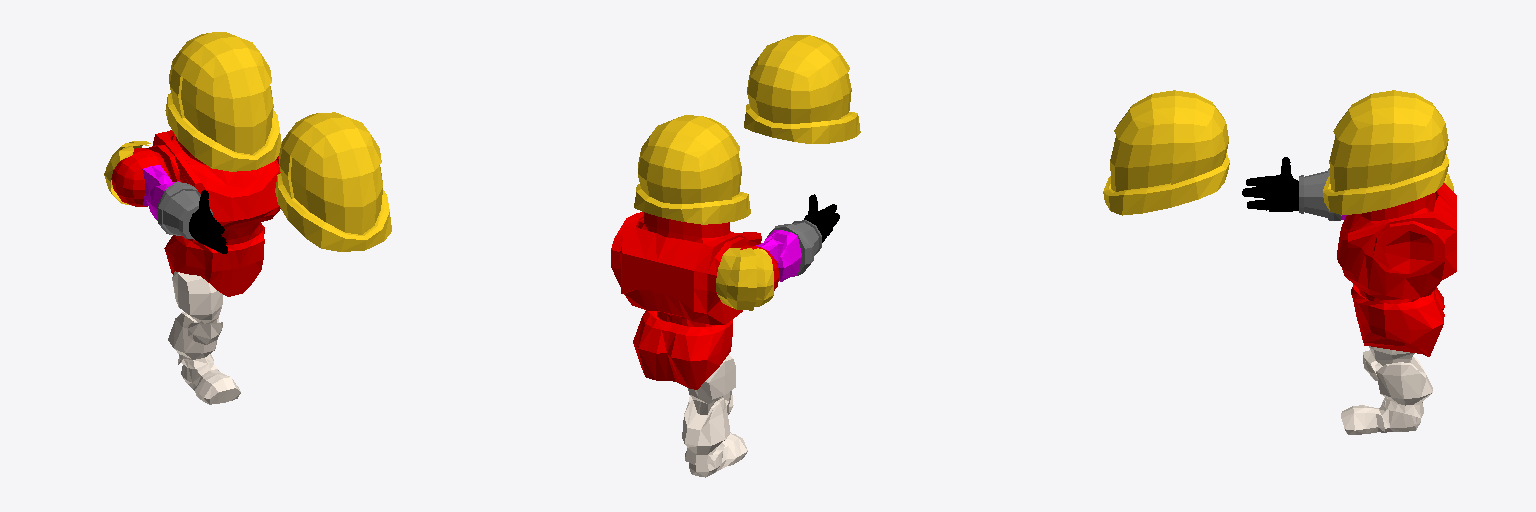
File: SimpleCharacter.obj
3 renders of one model, left to right at view 1: azimuth 30°, elevation 25°; view 2: azimuth 150°, elevation 25°; view 3: azimuth 270°, elevation 25°, orthographic.
Visible parts, largest first — view 1: Body_GRP Root_GRP polySurface41 HeadBody pCube5, Body_GRP Root_GRP polySurface41 HeadBody pCube40, Body_GRP Root_GRP polySurface41 HeadBody, Pelvis1 Body_GRP Root_GRP, Body_GRP Root_GRP polySurface41 HeadBody R_Shoulder R_Shoulder R, Pelvis1 Body_GRP Root_GRP R_UpperLeg, Body_GRP Root_GRP polySurface41 HeadBody R_Shoulder, Pelvis1 Body_GRP Root_GRP R_UpperLeg R_LowerLeg R_Foot, Pelvis1 Body_GRP Root_GRP R_UpperLeg R_LowerLeg, Body_GRP Root_GRP polySurface41 HeadBody R_Shoulder polySurface6, Pelvis1 Body_GRP Root_GRP R_UpperLeg R_LowerLeg polySurface49, Body_GRP Root_GRP polySurface41 HeadBody R_Shoulder R_Shoulder; view 2: Body_GRP Root_GRP polySurface41 HeadBody, Body_GRP Root_GRP polySurface41 HeadBody pCube5, Body_GRP Root_GRP polySurface41 HeadBody pCube40, Pelvis1 Body_GRP Root_GRP, Body_GRP Root_GRP polySurface41 HeadBody R_Shoulder polySurface6, Body_GRP Root_GRP polySurface41 HeadBody R_Shoulder R_Shoulder R, Pelvis1 Body_GRP Root_GRP R_UpperLeg R_LowerLeg, Pelvis1 Body_GRP Root_GRP R_UpperLeg, Pelvis1 Body_GRP Root_GRP R_UpperLeg R_LowerLeg R_Foot; view 3: Body_GRP Root_GRP polySurface41 HeadBody pCube5, Body_GRP Root_GRP polySurface41 HeadBody pCube40, Body_GRP Root_GRP polySurface41 HeadBody, Pelvis1 Body_GRP Root_GRP, Body_GRP Root_GRP polySurface41 HeadBody R_Shoulder R_Shoulder R, Pelvis1 Body_GRP Root_GRP R_UpperLeg R_LowerLeg, Pelvis1 Body_GRP Root_GRP R_UpperLeg R_LowerLeg R_Foot, Pelvis1 Body_GRP Root_GRP R_UpperLeg.
Boxes of the visible parts, x1=… form: Body_GRP Root_GRP polySurface41 HeadBody pCube5: x1=275, y1=112, x2=391, y2=251; Body_GRP Root_GRP polySurface41 HeadBody pCube40: x1=165, y1=32, x2=281, y2=171; Body_GRP Root_GRP polySurface41 HeadBody: x1=146, y1=130, x2=280, y2=230; Pelvis1 Body_GRP Root_GRP: x1=164, y1=223, x2=264, y2=296; Body_GRP Root_GRP polySurface41 HeadBody R_Shoulder R_Shoulder R: x1=146, y1=181, x2=227, y2=253; Pelvis1 Body_GRP Root_GRP R_UpperLeg: x1=172, y1=271, x2=222, y2=323; Body_GRP Root_GRP polySurface41 HeadBody R_Shoulder: x1=111, y1=148, x2=169, y2=206; Pelvis1 Body_GRP Root_GRP R_UpperLeg R_LowerLeg R_Foot: x1=181, y1=359, x2=240, y2=404; Pelvis1 Body_GRP Root_GRP R_UpperLeg R_LowerLeg: x1=168, y1=312, x2=219, y2=368; Body_GRP Root_GRP polySurface41 HeadBody R_Shoulder polySurface6: x1=104, y1=141, x2=150, y2=205; Pelvis1 Body_GRP Root_GRP R_UpperLeg R_LowerLeg polySurface49: x1=188, y1=322, x2=222, y2=344; Body_GRP Root_GRP polySurface41 HeadBody R_Shoulder R_Shoulder: x1=142, y1=165, x2=172, y2=205; Body_GRP Root_GRP polySurface41 HeadBody: x1=611, y1=212, x2=761, y2=324; Body_GRP Root_GRP polySurface41 HeadBody pCube5: x1=744, y1=35, x2=860, y2=143; Body_GRP Root_GRP polySurface41 HeadBody pCube40: x1=634, y1=115, x2=750, y2=224; Pelvis1 Body_GRP Root_GRP: x1=633, y1=310, x2=732, y2=389; Body_GRP Root_GRP polySurface41 HeadBody R_Shoulder polySurface6: x1=716, y1=248, x2=773, y2=310; Body_GRP Root_GRP polySurface41 HeadBody R_Shoulder R_Shoulder R: x1=764, y1=194, x2=839, y2=281; Pelvis1 Body_GRP Root_GRP R_UpperLeg R_LowerLeg: x1=682, y1=396, x2=730, y2=464; Pelvis1 Body_GRP Root_GRP R_UpperLeg: x1=688, y1=355, x2=735, y2=414; Pelvis1 Body_GRP Root_GRP R_UpperLeg R_LowerLeg R_Foot: x1=689, y1=433, x2=747, y2=477; Body_GRP Root_GRP polySurface41 HeadBody pCube5: x1=1103, y1=90, x2=1229, y2=215; Body_GRP Root_GRP polySurface41 HeadBody pCube40: x1=1323, y1=90, x2=1448, y2=215; Body_GRP Root_GRP polySurface41 HeadBody: x1=1337, y1=183, x2=1456, y2=299; Pelvis1 Body_GRP Root_GRP: x1=1351, y1=284, x2=1444, y2=356; Body_GRP Root_GRP polySurface41 HeadBody R_Shoulder R_Shoulder R: x1=1242, y1=157, x2=1346, y2=220; Pelvis1 Body_GRP Root_GRP R_UpperLeg R_LowerLeg: x1=1375, y1=357, x2=1432, y2=417; Pelvis1 Body_GRP Root_GRP R_UpperLeg R_LowerLeg R_Foot: x1=1341, y1=400, x2=1420, y2=434; Pelvis1 Body_GRP Root_GRP R_UpperLeg: x1=1369, y1=346, x2=1414, y2=365.
Bounding box in the file's own units: 6.33 × 13.65 × 12.79.